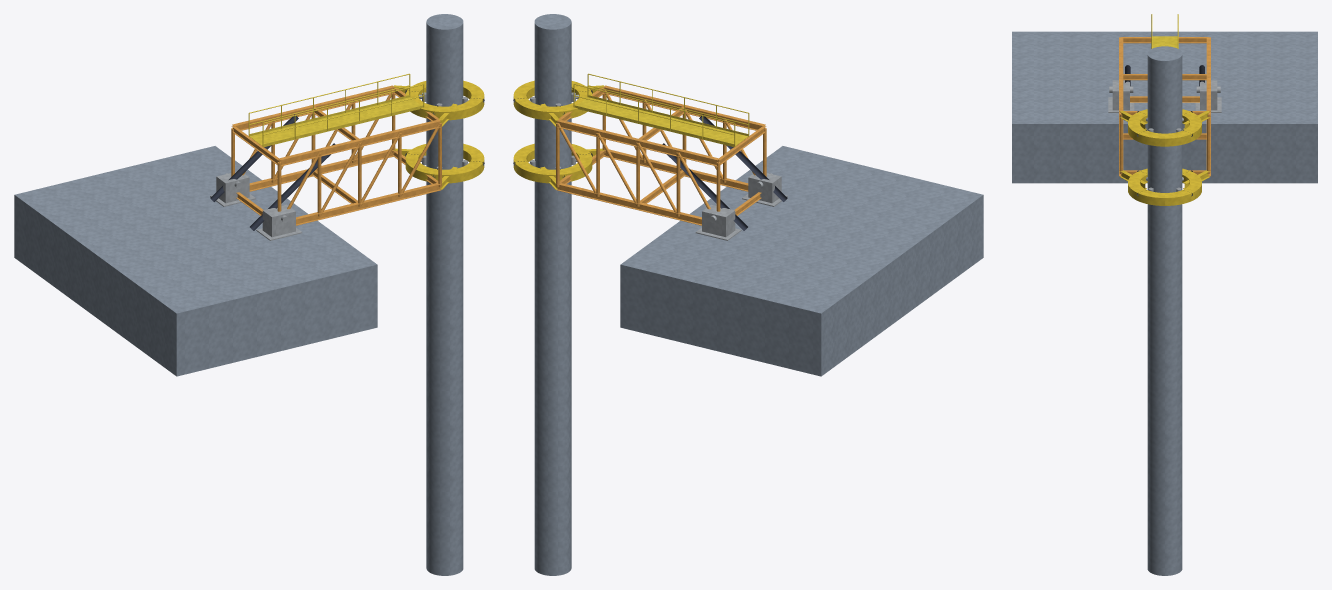
Rendered from pile-manipulators.glb.
3 views of the same model, side by side, from view 1: azimuth 30°, elevation 25°; view 2: azimuth 150°, elevation 25°; view 3: azimuth 270°, elevation 25° (orthographic). The views are drawn at different scales.
Visible parts, largest first — view 1: Pile&Barge(context), CantileverFrame, Walkway&Handrails, DeckHinges&BasePlates, LowerGripperRing, UpperGripperRing, HydraulicCylinders(context); view 2: Pile&Barge(context), CantileverFrame, Walkway&Handrails, DeckHinges&BasePlates, LowerGripperRing, UpperGripperRing, HydraulicCylinders(context); view 3: Pile&Barge(context), CantileverFrame, UpperGripperRing, LowerGripperRing, DeckHinges&BasePlates, Walkway&Handrails.
Part boxes in pixels (x1,y1,x2,y2): Pile&Barge(context): (14,14,463,575); CantileverFrame: (231,85,441,225); Walkway&Handrails: (248,73,424,147); DeckHinges&BasePlates: (210,171,302,240); LowerGripperRing: (393,143,484,189); UpperGripperRing: (394,80,484,126); HydraulicCylinders(context): (210,90,484,230); Pile&Barge(context): (534,14,983,575); CantileverFrame: (556,85,766,225); Walkway&Handrails: (573,73,749,147); DeckHinges&BasePlates: (695,171,787,240); LowerGripperRing: (513,143,604,189); UpperGripperRing: (513,80,603,126); HydraulicCylinders(context): (513,90,787,230); Pile&Barge(context): (1012,31,1317,575); CantileverFrame: (1119,37,1210,176); UpperGripperRing: (1120,109,1209,146); LowerGripperRing: (1120,168,1209,205); DeckHinges&BasePlates: (1108,80,1221,112); Walkway&Handrails: (1151,14,1178,48).
Size of the model in its own units: 19.1 by 26 by 14.
Materials: 6 (6 with a texture image).
